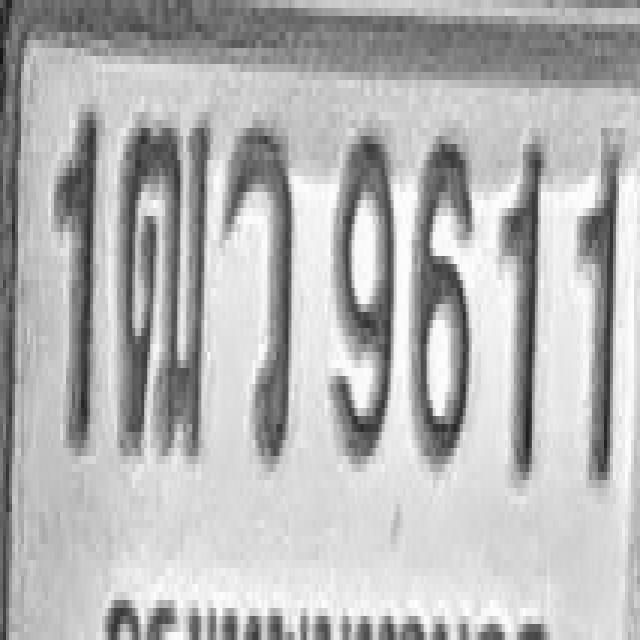1: (576, 136, 624, 480), (500, 132, 546, 476), (56, 104, 98, 448)
27ThorPhuThao: (119, 112, 212, 456)
46WorWaen: (224, 120, 293, 464)
6: (412, 128, 472, 464)
9: (331, 124, 394, 460)
